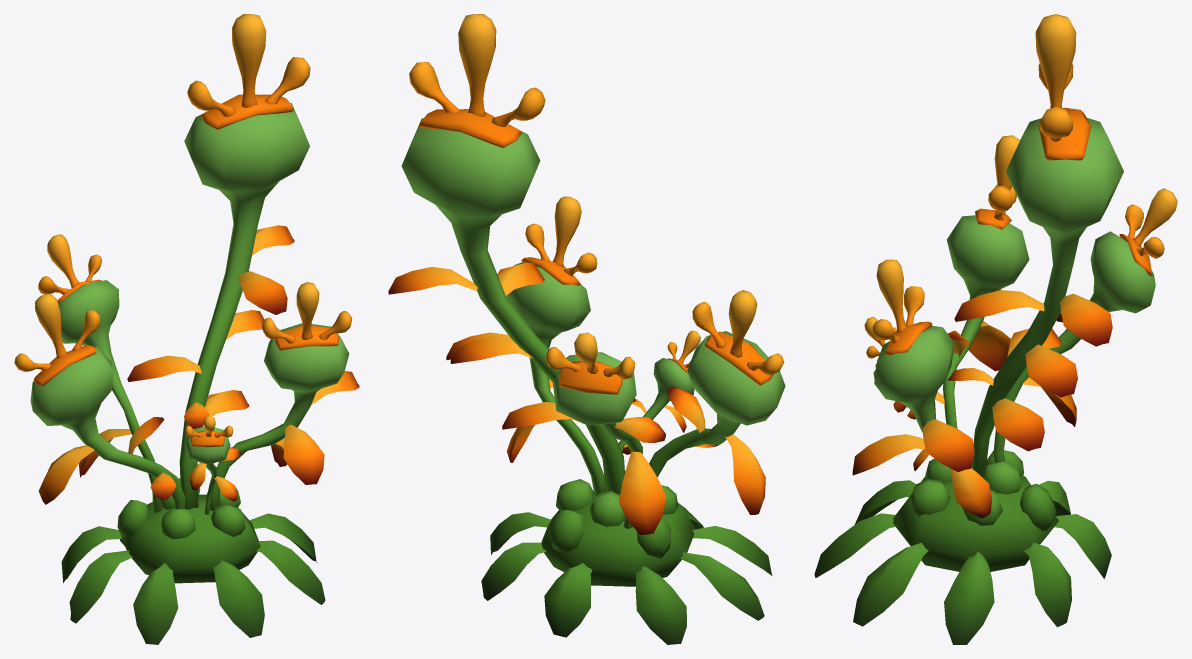
Rendered from wp_noPot_26.fbx.
3 renders of one model, left to right at view 1: azimuth 30°, elevation 25°; view 2: azimuth 150°, elevation 25°; view 3: azimuth 270°, elevation 25°, orthographic. The views are drawn at different scales.
Visible parts, largest first — view 1: w_pl26.003; view 2: w_pl26.003; view 3: w_pl26.003.
Boxes of the visible parts, left/top/right/bottom form: w_pl26.003: left=14, top=14, right=359, bottom=644; w_pl26.003: left=388, top=14, right=785, bottom=644; w_pl26.003: left=814, top=14, right=1177, bottom=644.
Size of the model in its own units: 105 by 162 by 86.67.
